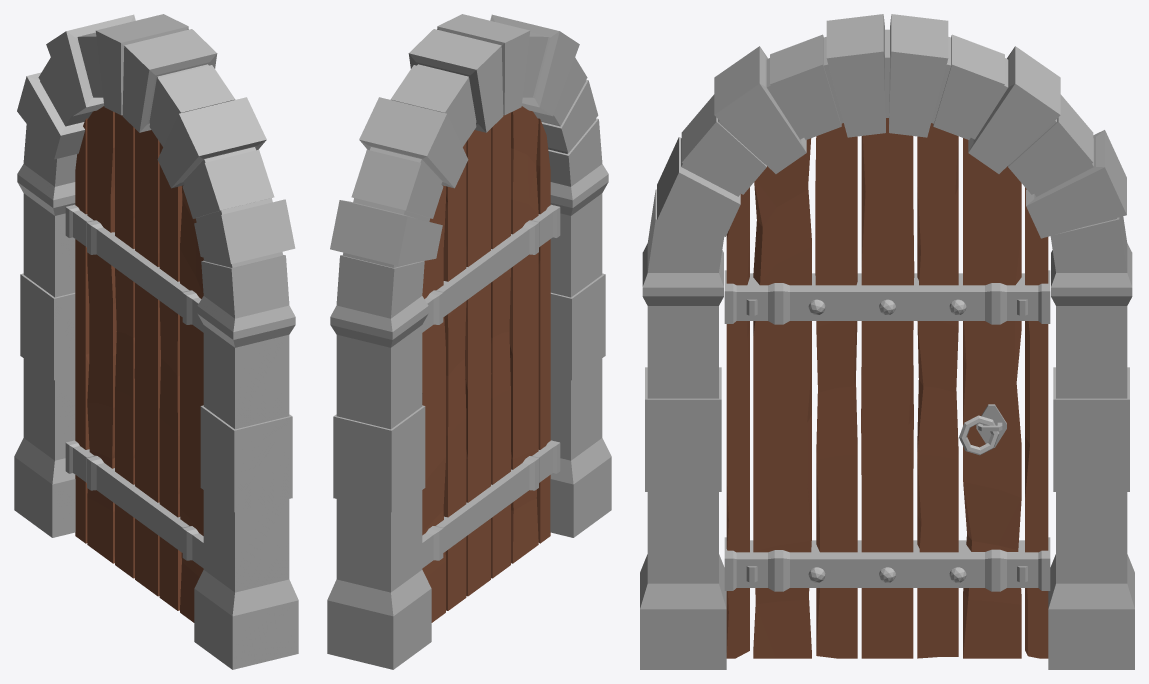
File: door_WC.fbx
3 renders of one model, left to right at view 1: azimuth 30°, elevation 25°; view 2: azimuth 150°, elevation 25°; view 3: azimuth 270°, elevation 25°, orthographic. The views are drawn at different scales.
Visible parts, largest first — view 1: Cube; view 2: Cube; view 3: Cube.
Part boxes in pixels (bbox=[...]): Cube: bbox=[14, 14, 298, 669]; Cube: bbox=[327, 14, 611, 669]; Cube: bbox=[640, 14, 1134, 669].
Size of the model in its own units: 40.7 by 298 by 214.
